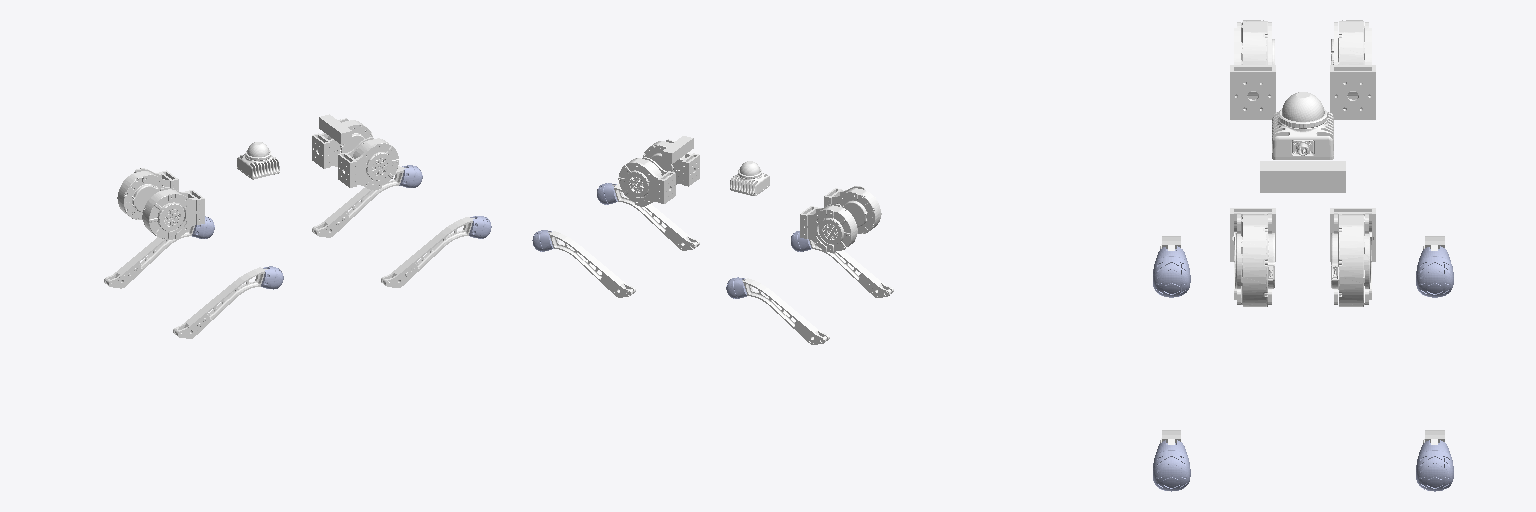
URDF robot description (hustdog2):
<?xml version='1.0' encoding='utf-8'?>
<robot name="hustdog2">
  
  <link name="base_link" />

  
  <joint name="base_link_to_trunk" type="fixed">
    <origin xyz="0 0 0" rpy="0 0 0" />
    <parent link="base_link" />
    <child link="trunk" />
  </joint>

  <link name="trunk">
    <inertial>
      <origin xyz="0.00014579412146028 -8.23603790256226E-05 0.0513141462721673" rpy="0 0 0" />
      <mass value="3.304" />
      <inertia ixx="0.00246223133481107" ixy="1.22541568850732E-07" ixz="-1.86486894267769E-09" iyy="0.00300451040783408" iyz="-5.45851421140666E-10" izz="0.00369726469403937" />
    </inertial>
    <visual>
      <origin xyz="0 0 0" rpy="0 0 0" />
      <geometry>
        <mesh filename="../meshes/trunk.STL" />
      </geometry>
      <material name="">
        <color rgba="1 1 1 1" />
      </material>
    </visual>
    <collision>
      <origin xyz="0 0 0" rpy="0 0 0" />
      <geometry>
        <box size="0.3762 0.0935 0.114" />
      </geometry>
    </collision>
  </link>
  <link name="LIDAR">
    <inertial>
      <origin xyz="0.000199578579167744 5.56978729826113E-06 0.0930321007689041" rpy="0 0 0" />
      <mass value="0.141887346048767" />
      <inertia ixx="4.17977400205789E-05" ixy="-5.52625156952412E-09" ixz="-3.05328898604069E-07" iyy="4.50773279990884E-05" iyz="4.39725037239413E-10" izz="6.87998253582212E-05" />
    </inertial>
    <visual>
      <origin xyz="0 0 0" rpy="0 0 0" />
      <geometry>
        <mesh filename="../meshes/LIDAR.STL" />
      </geometry>
      <material name="">
        <color rgba="1 1 1 1" />
      </material>
    </visual>
    <collision>
      <origin xyz="0 0 0" rpy="0 0 0" />
      <geometry>
        <cylinder length="0.04" radius="0.035" />
      </geometry>
    </collision>
  </link>
  <joint name="LIDAR" type="fixed">
    <origin xyz="0 0 0" rpy="0 0 0" />
    <parent link="trunk" />
    <child link="LIDAR" />
    <axis xyz="0 0 0" />
  </joint>
  <link name="CAMERA">
    <inertial>
      <origin xyz="0.1775 4.17712342116523E-15 0.119500406871192" rpy="0 0 0" />
      <mass value="0.05625" />
      <inertia ixx="4.08984375E-05" ixy="1.41172157875717E-21" ixz="3.81164826263948E-23" iyy="5.85937500000001E-06" iyz="1.22445950217789E-18" izz="4.08984375E-05" />
    </inertial>
    <visual>
      <origin xyz="0 0 0" rpy="0 0 0" />
      <geometry>
        <mesh filename="../meshes/CAMERA.STL" />
      </geometry>
      <material name="">
        <color rgba="1 1 1 1" />
      </material>
    </visual>
    <collision>
      <origin xyz="0 0 0" rpy="0 0 0" />
      <geometry>
        <box size="0.025 0.1 0.025" />
      </geometry>
    </collision>
  </link>
  <joint name="CAMERA" type="fixed">
    <origin xyz="0 0 0" rpy="0 0 0" />
    <parent link="trunk" />
    <child link="CAMERA" />
    <axis xyz="0 0 0" />
  </joint>
  <link name="FL_hip">
    <inertial>
      <origin xyz="0.0616954657332899 0.000255572963513064 -7.63322599348776E-05" rpy="0 0 0" />
      <mass value="0.686" />
      <inertia ixx="0.000156060782713592" ixy="9.88293977220767E-08" ixz="-3.62934761238064E-07" iyy="0.000258233849337308" iyz="3.0635159913329E-08" izz="0.000143369682824528" />
    </inertial>
    <visual>
      <origin xyz="0 0 0" rpy="0 0 0" />
      <geometry>
        <mesh filename="../meshes/FL_hip.STL" />
      </geometry>
      <material name="">
        <color rgba="1 1 1 1" />
      </material>
    </visual>
    <collision>
      <origin xyz="0 0 0" rpy="0 1.57079632679 0" />
      <geometry>
        <cylinder length="0.04" radius="0.046" />
      </geometry>
    </collision>
  </link>
  <joint name="FL_hip_joint" type="revolute">
    <origin xyz="0.1666 0.052004 0.052" rpy="0 0 0" />
    <parent link="trunk" />
    <child link="FL_hip" />
    <axis xyz="1 0 0" />
    <limit lower="-0.6674139" upper="0.6674139" effort="23.7" velocity="30" />
  </joint>
  <link name="FL_thigh">
    <inertial>
      <origin xyz="-0.00278651151521142 0.0616201098501937 -0.0259592407078395" rpy="0 0 0" />
      <mass value="1.027" />
      <inertia ixx="0.000755179066525862" ixy="8.98619851765821E-08" ixz="-4.14421053000646E-05" iyy="0.000907689600176613" iyz="-1.17602206530788E-06" izz="0.000174646349621653" />
    </inertial>
    <visual>
      <origin xyz="0 0 0" rpy="0 0 0" />
      <geometry>
        <mesh filename="../meshes/FL_thigh.STL" />
      </geometry>
      <material name="">
        <color rgba="1 1 1 1" />
      </material>
    </visual>
    <collision>
      <origin xyz="0 0 -0.11" rpy="0 0 0" />
      <geometry>
        <box size="0.0245 0.034 0.22" />
      </geometry>
    </collision>
  </link>
  <joint name="FL_thigh_joint" type="revolute">
    <origin xyz="0.072 0 0" rpy="0 0 0" />
    <parent link="FL_hip" />
    <child link="FL_thigh" />
    <axis xyz="0 1 0" />
    <limit upper="1.7017" lower="-0.1309" effort="23.7" velocity="30" />
  </joint>
  <link name="FL_calf">
    <inertial>
      <origin xyz="-0.000291115031835237 0.0849240679455889 -0.0645455558309592" rpy="0 0 0" />
      <mass value="0.249" />
      <inertia ixx="0.000215077140788138" ixy="-1.03212973213596E-07" ixz="-7.20761855561957E-06" iyy="0.000218606842918734" iyz="-2.83504164955131E-06" izz="6.64642324289748E-06" />
    </inertial>
    <visual>
      <origin xyz="0 0 0" rpy="0 0 0" />
      <geometry>
        <mesh filename="../meshes/FL_calf.STL" />
      </geometry>
      <material name="">
        <color rgba="1 1 1 1" />
      </material>
    </visual>
    <collision>
      <origin xyz="0 0 -0.11" rpy="0 0 0" />
      <geometry>
        <box size="0.016 0.016 0.22" />
      </geometry>
    </collision>
  </link>
  <joint name="FL_calf_joint" type="revolute">
    <origin xyz="0 0 -0.22" rpy="0 0 0" />
    <parent link="FL_thigh" />
    <child link="FL_calf" />
    <axis xyz="0 1 0" />
    <limit lower="-2.9123" upper="-1.2542" effort="23.7" velocity="30" />
  </joint>
  <link name="FL_foot">
    <inertial>
      <origin xyz="-0.00408434501666199 0.0 -0.00290914827275929" rpy="0 0 0" />
      <mass value="0.056" />
      <inertia ixx="1.46759140000492E-05" ixy="-8.49482435630802E-08" ixz="3.07254971706503E-06" iyy="1.27945976674806E-05" iyz="-3.13456863350562E-08" izz="1.40635378188276E-05" />
    </inertial>
    <visual>
      <origin xyz="0.0 -0.0851196204673925 0.0" rpy="0 0 0" />
      <geometry>
        <mesh filename="../meshes/FL_foot.STL" />
      </geometry>
      <material name="">
        <color rgba="0.792156862745098 0.819607843137255 0.933333333333333 1" />
      </material>
    </visual>
    <collision>
      <origin xyz="-0.004 0.185 -0.003" rpy="0 0 0" />
      <geometry>
        <sphere radius="0.02" />
      </geometry>
    </collision>
  </link>
  <joint name="FL_foot_fixed" type="fixed">
    <origin xyz="-0.029481 0.0851196204673925 -0.19799" rpy="0 0 0" />
    <parent link="FL_calf" />
    <child link="FL_foot" />
    <axis xyz="0 0 0" />
  </joint>
  <link name="FR_hip">
    <inertial>
      <origin xyz="0.061695 -0.00025557 7.6332E-05" rpy="0 0 0" />
      <mass value="0.686" />
      <inertia ixx="0.00015606" ixy="-9.8829E-08" ixz="3.6293E-07" iyy="0.00025823" iyz="3.0635E-08" izz="0.00014337" />
    </inertial>
    <visual>
      <origin xyz="0 0 0" rpy="0 0 0" />
      <geometry>
        <mesh filename="../meshes/FR_hip.STL" />
      </geometry>
      <material name="">
        <color rgba="1 1 1 1" />
      </material>
    </visual>
    <collision>
      <origin xyz="0 0 0" rpy="0 1.57079632679 0" />
      <geometry>
        <cylinder length="0.04" radius="0.046" />
      </geometry>
    </collision>
  </link>
  <joint name="FR_hip_joint" type="revolute">
    <origin xyz="0.1666 -0.051996 0.052" rpy="0 0 0" />
    <parent link="trunk" />
    <child link="FR_hip" />
    <axis xyz="1 0 0" />
    <limit lower="-0.6674139" upper="0.6674139" effort="23.7" velocity="30" />
  </joint>
  <link name="FR_thigh">
    <inertial>
      <origin xyz="-0.00275078934112083 -0.061797306727413 -0.0259635539721172" rpy="0 0 0" />
      <mass value="1.027" />
      <inertia ixx="0.000756603493555017" ixy="-7.92376228187542E-08" ixz="-4.17601614282535E-05" iyy="0.000910075280848094" iyz="-2.00894339422274E-08" izz="0.000175634171715802" />
    </inertial>
    <visual>
      <origin xyz="0 0 0" rpy="0 0 0" />
      <geometry>
        <mesh filename="../meshes/FR_thigh.STL" />
      </geometry>
      <material name="">
        <color rgba="1 1 1 1" />
      </material>
    </visual>
    <collision>
      <origin xyz="0 0 -0.11" rpy="0 0 0" />
      <geometry>
        <box size="0.0245 0.034 0.22" />
      </geometry>
    </collision>
  </link>
  <joint name="FR_thigh_joint" type="revolute">
    <origin xyz="0.072 0 0" rpy="0 0 0" />
    <parent link="FR_hip" />
    <child link="FR_thigh" />
    <axis xyz="0 1 0" />
    <limit upper="1.7017" lower="-0.1309" effort="23.7" velocity="30" />
  </joint>
  <link name="FR_calf">
    <inertial>
      <origin xyz="-0.000290700643747477 -0.0849759320544111 -0.0645449884848464" rpy="0 0 0" />
      <mass value="0.249" />
      <inertia ixx="0.000215077167464886" ixy="-1.03212973220742E-07" ixz="-7.20760001508999E-06" iyy="0.000218606842918735" iyz="-2.83504164955069E-06" izz="6.64639656615067E-06" />
    </inertial>
    <visual>
      <origin xyz="0 0 0" rpy="0 0 0" />
      <geometry>
        <mesh filename="../meshes/FR_calf.STL" />
      </geometry>
      <material name="">
        <color rgba="1 1 1 1" />
      </material>
    </visual>
    <collision>
      <origin xyz="0 0 -0.11" rpy="0 0 0" />
      <geometry>
         <box size="0.016 0.016 0.22" />
      </geometry>
    </collision>
  </link>
  <joint name="FR_calf_joint" type="revolute">
    <origin xyz="0 0 -0.22" rpy="0 0 0" />
    <parent link="FR_thigh" />
    <child link="FR_calf" />
    <axis xyz="0 1 0" />
    <limit lower="-2.9123" upper="-1.2542" effort="23.7" velocity="30" />
  </joint>
  <link name="FR_foot">
    <inertial>
      <origin xyz="-0.00408107532886393 0.0 -0.00290633685426728" rpy="0 0 0" />
      <mass value="0.056" />
      <inertia ixx="1.46759142154274E-05" ixy="-8.49500634834688E-08" ixz="3.07255134158506E-06" iyy="1.27945974102209E-05" iyz="-3.13454386289555E-08" izz="1.40635376324204E-05" />
    </inertial>
    <visual>
      <origin xyz="0.0 0.0847335598778639 0.0" rpy="0 0 0" />
      <geometry>
        <mesh filename="../meshes/FR_foot.STL" />
      </geometry>
      <material name="">
        <color rgba="0.792156862745098 0.819607843137255 0.933333333333333 1" />
      </material>
    </visual>
    <collision>
      <origin xyz="-0.004 -0.085 -0.003" rpy="0 0 0" />
      <geometry>
        <sphere radius="0.02" />
      </geometry>
    </collision>
  </link>
  <joint name="FR_foot_fixed" type="fixed">
    <origin xyz="-0.029484 -0.0847335598778639 -0.19799" rpy="0 0 0" />
    <parent link="FR_calf" />
    <child link="FR_foot" />
    <axis xyz="0 0 0" />
  </joint>
  <link name="RL_hip">
    <inertial>
      <origin xyz="-0.0616954657331795 0.000255572963426758 7.63322599392074E-05" rpy="0 0 0" />
      <mass value="0.686" />
      <inertia ixx="0.000156060782713602" ixy="-9.88293977822829E-08" ixz="-3.62934761193436E-07" iyy="0.000258233849338492" iyz="-3.0635159915955E-08" izz="0.000143369682825667" />
    </inertial>
    <visual>
      <origin xyz="0 0 0" rpy="0 0 0" />
      <geometry>
        <mesh filename="../meshes/RL_hip.STL" />
      </geometry>
      <material name="">
        <color rgba="1 1 1 1" />
      </material>
    </visual>
    <collision>
      <origin xyz="0 0 0" rpy="0 1.57079632679 0" />
      <geometry>
        <cylinder length="0.04" radius="0.046" />
      </geometry>
    </collision>
  </link>
  <joint name="RL_hip_joint" type="revolute">
    <origin xyz="-0.1666 0.052004 0.052" rpy="0 0 0" />
    <parent link="trunk" />
    <child link="RL_hip" />
    <axis xyz="1 0 0" />
    <limit lower="-0.6674139" upper="0.6674139" effort="23.7" velocity="30" />
  </joint>
  <link name="RL_thigh">
    <inertial>
      <origin xyz="-0.00278651151527229 0.0616201098501698 -0.0259592407077821" rpy="0 0 0" />
      <mass value="1.027" />
      <inertia ixx="0.000755179066525969" ixy="8.98619852381736E-08" ixz="-4.14421053000323E-05" iyy="0.000907689600177163" iyz="-1.17602206531939E-06" izz="0.000174646349622106" />
    </inertial>
    <visual>
      <origin xyz="0 0 0" rpy="0 0 0" />
      <geometry>
        <mesh filename="../meshes/RL_thigh.STL" />
      </geometry>
      <material name="">
        <color rgba="1 1 1 1" />
      </material>
    </visual>
    <collision>
      <origin xyz="0 0 -0.11" rpy="0 0 0" />
      <geometry>
        <box size="0.0245 0.034 0.22" />
      </geometry>
    </collision>
  </link>
  <joint name="RL_thigh_joint" type="revolute">
    <origin xyz="-0.072 0 0" rpy="0 0 0" />
    <parent link="RL_hip" />
    <child link="RL_thigh" />
    <axis xyz="0 1 0" />
    <limit upper="1.7017" lower="-0.1309" effort="23.7" velocity="30" />
  </joint>
  <link name="RL_calf">
    <inertial>
      <origin xyz="-0.000291115032167749 0.0849240679455877 -0.0645455558309579" rpy="0 0 0" />
      <mass value="0.249" />
      <inertia ixx="0.000215077140788064" ixy="-1.03212973228208E-07" ixz="-7.20761855669369E-06" iyy="0.000218606842918735" iyz="-2.8350416495509E-06" izz="6.6464232429718E-06" />
    </inertial>
    <visual>
      <origin xyz="0 0 0" rpy="0 0 0" />
      <geometry>
        <mesh filename="../meshes/RL_calf.STL" />
      </geometry>
      <material name="">
        <color rgba="1 1 1 1" />
      </material>
    </visual>
    <collision>
      <origin xyz="0 0 -0.11" rpy="0 0 0" />
      <geometry>
        <box size="0.016 0.016 0.22" />
      </geometry>
    </collision>
  </link>
  <joint name="RL_calf_joint" type="revolute">
    <origin xyz="0 0 -0.22" rpy="0 0 0" />
    <parent link="RL_thigh" />
    <child link="RL_calf" />
    <axis xyz="0 1 0" />
    <limit lower="-2.91225638" upper="-1.2541936" effort="23.7" velocity="30" />
  </joint>
  <link name="RL_foot">
    <inertial>
      <origin xyz="-0.004084345515799 0.0 -0.00290914774361728" rpy="0 0 0" />
      <mass value="0.056" />
      <inertia ixx="1.46759132299513E-05" ixy="-8.49483756926153E-08" ixz="3.0725499453901E-06" iyy="1.27945967137409E-05" iyz="-3.13455349479161E-08" izz="1.40635368524768E-05" />
    </inertial>
    <visual>
      <origin xyz="0.0 -0.0851320673047962 0.0" rpy="0 0 0" />
      <geometry>
        <mesh filename="../meshes/RL_foot.STL" />
      </geometry>
      <material name="">
        <color rgba="0.792156862745098 0.819607843137255 0.933333333333333 1" />
      </material>
    </visual>
    <collision>
      <origin xyz="-0.004 0.085 -0.003" rpy="0 0 0" />
      <geometry>
        <sphere radius="0.02" />
      </geometry>
    </collision>
  </link>
  <joint name="RL_foot_fixed" type="fixed">
    <origin xyz="-0.029481 0.0851320673047962 -0.19799" rpy="0 0 0" />
    <parent link="RL_calf" />
    <child link="RL_foot" />
    <axis xyz="0 0 0" />
  </joint>
  <link name="RR_hip">
    <inertial>
      <origin xyz="-0.0616954657331797 -0.00025557296342673 -7.63322599394017E-05" rpy="0 0 0" />
      <mass value="0.686" />
      <inertia ixx="0.000156060782713602" ixy="9.88293977822788E-08" ixz="3.62934761193617E-07" iyy="0.000258233849338492" iyz="-3.0635159914697E-08" izz="0.000143369682825667" />
    </inertial>
    <visual>
      <origin xyz="0 0 0" rpy="0 0 0" />
      <geometry>
        <mesh filename="../meshes/RR_hip.STL" />
      </geometry>
      <material name="">
        <color rgba="1 1 1 1" />
      </material>
    </visual>
    <collision>
      <origin xyz="0 0 0" rpy="0 1.57079632679 0" />
      <geometry>
        <cylinder length="0.04" radius="0.046" />
      </geometry>
    </collision>
  </link>
  <joint name="RR_hip_joint" type="revolute">
    <origin xyz="-0.1666 -0.051996 0.052" rpy="0 0 0" />
    <parent link="trunk" />
    <child link="RR_hip" />
    <axis xyz="1 0 0" />
    <limit lower="-0.6674139" upper="0.6674139" effort="23.7" velocity="30" />
  </joint>
  <link name="RR_thigh">
    <inertial>
      <origin xyz="-0.00275078937067916 -0.0617973067352863 -0.0259635539698446" rpy="0 0 0" />
      <mass value="1.027" />
      <inertia ixx="0.000756603494333339" ixy="-7.9237604851973E-08" ixz="-4.1760160902987E-05" iyy="0.000910075281630381" iyz="-2.00894638251924E-08" izz="0.000175634171721558" />
    </inertial>
    <visual>
      <origin xyz="0 0 0" rpy="0 0 0" />
      <geometry>
        <mesh filename="../meshes/RR_thigh.STL" />
      </geometry>
      <material name="">
        <color rgba="1 1 1 1" />
      </material>
    </visual>
    <collision>
      <origin xyz="0 0 -0.11" rpy="0 0 0" />
      <geometry>
        <box size="0.0245 0.034 0.22" />
      </geometry>
    </collision>
  </link>
  <joint name="RR_thigh_joint" type="revolute">
    <origin xyz="-0.072 0 0" rpy="0 0 0" />
    <parent link="RR_hip" />
    <child link="RR_thigh" />
    <axis xyz="0 1 0" />
    <limit upper="1.7017" lower="-0.1309" effort="23.7" velocity="30" />
  </joint>
  <link name="RR_calf">
    <inertial>
      <origin xyz="-0.000290621056721341 -0.0849759320544071 -0.0645454523611017" rpy="0 0 0" />
      <mass value="0.249" />
      <inertia ixx="0.000215077167464931" ixy="-1.03212973211729E-07" ixz="-7.20760001442781E-06" iyy="0.000218606842918735" iyz="-2.83504164955105E-06" izz="6.64639656610502E-06" />
    </inertial>
    <visual>
      <origin xyz="0 0 0" rpy="0 0 0" />
      <geometry>
        <mesh filename="../meshes/RR_calf.STL" />
      </geometry>
      <material name="">
        <color rgba="1 1 1 1" />
      </material>
    </visual>
    <collision>
      <origin xyz="0 0 -0.11" rpy="0 0 0" />
      <geometry>
        <box size="0.016 0.016 0.22" />
      </geometry>
    </collision>
  </link>
  <joint name="RR_calf_joint" type="revolute">
    <origin xyz="0 0 -0.22" rpy="0 0 0" />
    <parent link="RR_thigh" />
    <child link="RR_calf" />
    <axis xyz="0 1 0" />
    <limit lower="-2.9123" upper="-1.2542" effort="23.7" velocity="30" />
  </joint>
  <link name="RR_foot">
    <inertial>
      <origin xyz="-0.00408107272374797 0.0 -0.00290633662270157" rpy="0 0 0" />
      <mass value="0.056" />
      <inertia ixx="1.46759135371968E-05" ixy="-8.49481529565792E-08" ixz="3.07254955187879E-06" iyy="1.27945972906183E-05" iyz="-3.13455864380543E-08" izz="1.40635374588505E-05" />
    </inertial>
    <visual>
      <origin xyz="0.0 0.0847132470365835 0.0" rpy="0 0 0" />
      <geometry>
        <mesh filename="../meshes/RR_foot.STL" />
      </geometry>
      <material name="">
        <color rgba="0.792156862745098 0.819607843137255 0.933333333333333 1" />
      </material>
    </visual>
    <collision>
      <origin xyz="-0.004 -0.085 -0.003" rpy="0 0 0" />
      <geometry>
        <sphere radius="0.02" />
      </geometry>
    </collision>
  </link>
  <joint name="RR_foot_fixed" type="fixed">
    <origin xyz="-0.029484 -0.0847132470365835 -0.19799" rpy="0 0 0" />
    <parent link="RR_calf" />
    <child link="RR_foot" />
    <axis xyz="0 0 0" />
  </joint>
</robot>

--- What the picture shows (computed from the rendered views, not written in the file) ---
3 views of the same robot in one strip: view 1: azimuth 30°, elevation 25°; view 2: azimuth 150°, elevation 25°; view 3: azimuth 270°, elevation 25° (orthographic).
Model hustdog2 with 20 links and 19 joints (12 revolute, 7 fixed), rooted at base_link, posed joints at zero except 4 at the middle of their limits (FL_calf_joint = -2.08, FR_calf_joint = -2.08, RL_calf_joint = -2.08, RR_calf_joint = -2.08).
Visible links, largest first — view 1: RR_hip, FR_hip, RL_hip, RR_calf, FR_calf, FL_hip, FL_calf, RL_calf, LIDAR, CAMERA; view 2: RL_hip, FL_hip, RR_hip, RL_calf, FL_calf, FR_hip, FR_calf, RR_calf, LIDAR, CAMERA; view 3: RR_hip, FR_hip, RL_hip, FL_hip, LIDAR, CAMERA, RL_foot, FL_foot, RR_foot, FR_foot.
Link boxes in pixels (x1=…): RR_hip: x1=143, y1=187, x2=204, y2=239; FR_hip: x1=338, y1=137, x2=398, y2=189; RL_hip: x1=117, y1=168, x2=178, y2=219; RR_calf: x1=173, y1=267, x2=267, y2=338; FR_calf: x1=381, y1=217, x2=474, y2=287; FL_hip: x1=312, y1=118, x2=372, y2=168; FL_calf: x1=312, y1=166, x2=405, y2=237; RL_calf: x1=104, y1=225, x2=194, y2=288; LIDAR: x1=237, y1=142, x2=279, y2=179; CAMERA: x1=319, y1=114, x2=351, y2=144; RL_hip: x1=800, y1=204, x2=857, y2=252; FL_hip: x1=618, y1=157, x2=675, y2=206; RR_hip: x1=824, y1=186, x2=881, y2=233; RL_calf: x1=742, y1=278, x2=829, y2=344; FL_calf: x1=548, y1=231, x2=635, y2=297; FR_hip: x1=643, y1=139, x2=699, y2=186; FR_calf: x1=612, y1=184, x2=699, y2=250; RR_calf: x1=809, y1=239, x2=893, y2=297; LIDAR: x1=730, y1=161, x2=769, y2=195; CAMERA: x1=662, y1=136, x2=693, y2=163; RR_hip: x1=1230, y1=20, x2=1275, y2=119; FR_hip: x1=1230, y1=208, x2=1275, y2=306; RL_hip: x1=1330, y1=20, x2=1375, y2=119; FL_hip: x1=1330, y1=208, x2=1375, y2=306; LIDAR: x1=1272, y1=92, x2=1333, y2=159; CAMERA: x1=1260, y1=161, x2=1345, y2=192; RL_foot: x1=1416, y1=246, x2=1453, y2=297; FL_foot: x1=1416, y1=440, x2=1453, y2=491; RR_foot: x1=1153, y1=246, x2=1190, y2=297; FR_foot: x1=1153, y1=440, x2=1190, y2=491.
Size in the robot's own frame: 0.9571 by 0.3619 by 0.3583 metres.
Meshes: 19 distinct files referenced, 14 mesh visuals loaded (14 binary STL); not drawn: 5 (reference not matched to a file when rendering).
